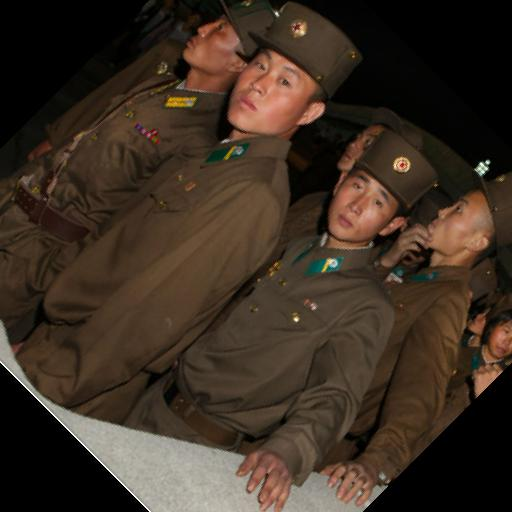north army: (47, 14, 512, 461)
